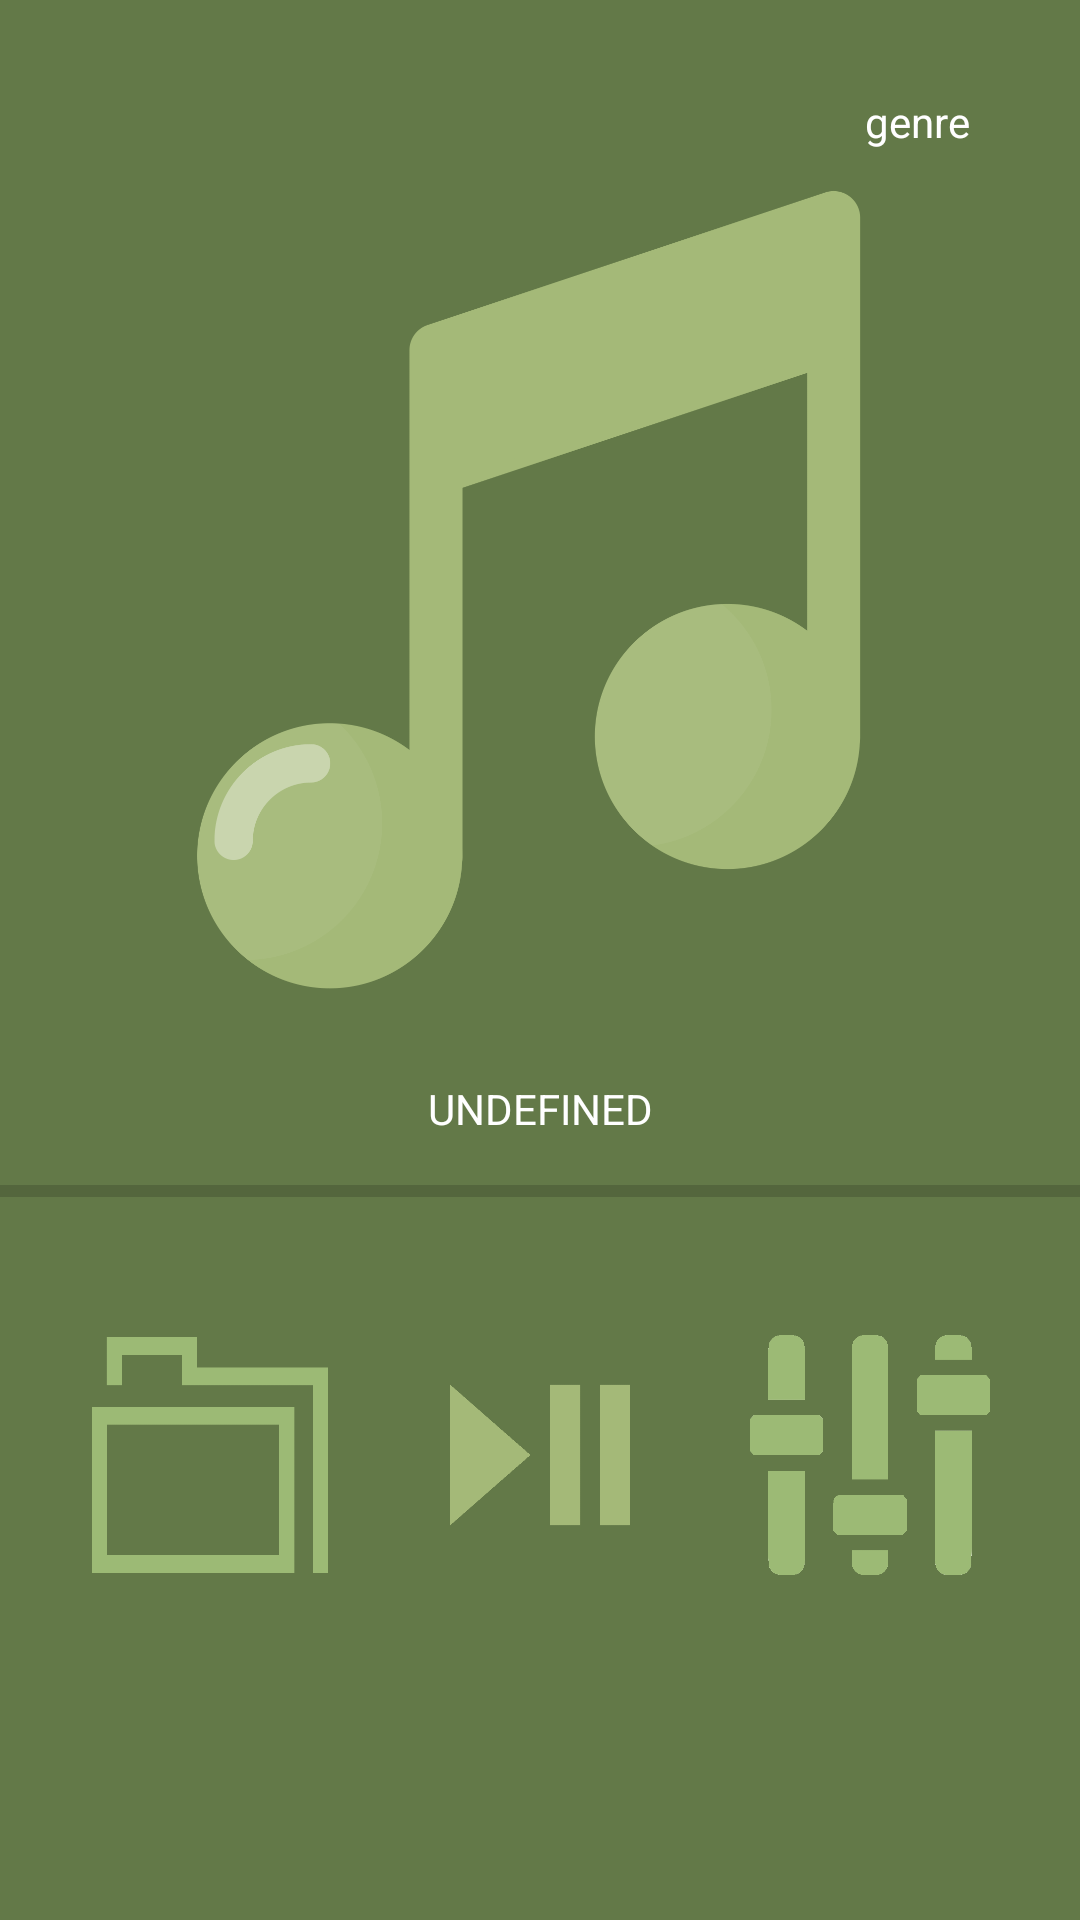

Icon bounding boxes for this 1080 × 1920 phone screenshot, format (x1,y1,x2,y2):
equ: (750,1335,990,1575)
open file: (92,1337,328,1573)
play pause: (450,1385,630,1525)
